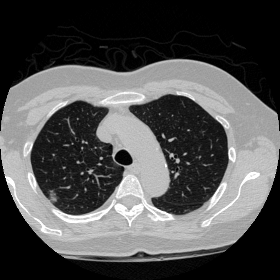nodule: (46, 190, 58, 202)
